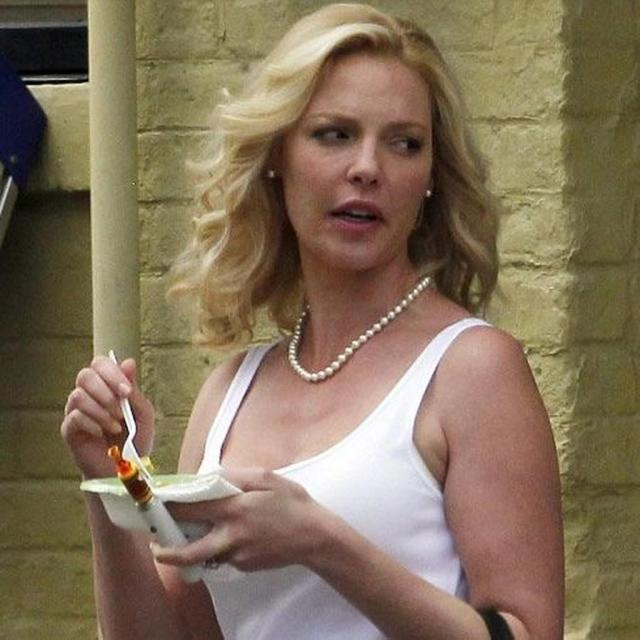smoking: (53, 10, 610, 602)
